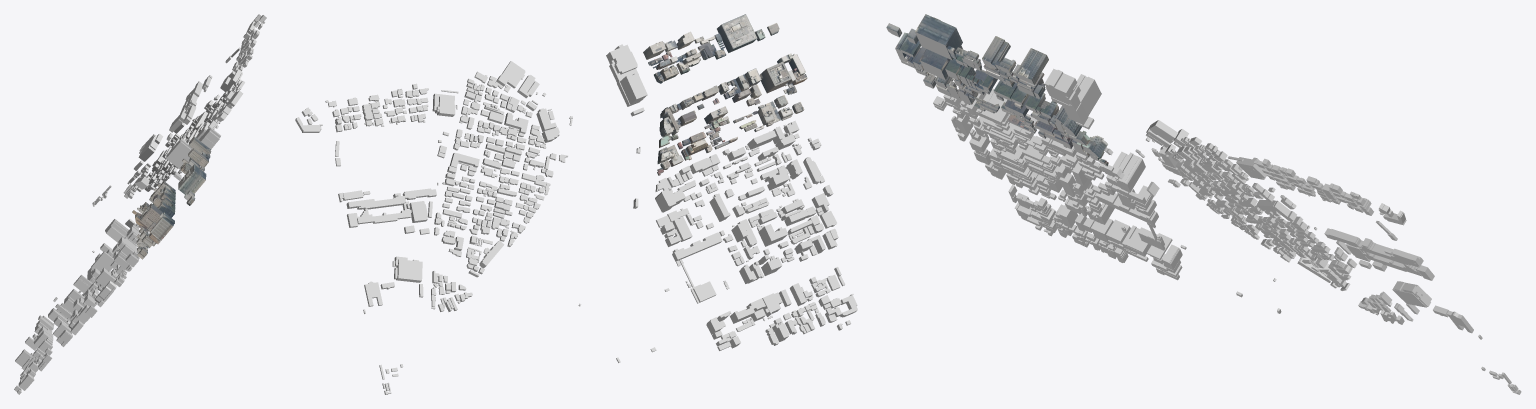
File: data135.glb
3 views of the same model, side by side, from view 1: azimuth 30°, elevation 25°; view 2: azimuth 150°, elevation 25°; view 3: azimuth 270°, elevation 25° (orthographic). The views are drawn at different scales.
Bounding box in the file's own units: 883 × 506 × 925.
2 materials, 1 textured.
